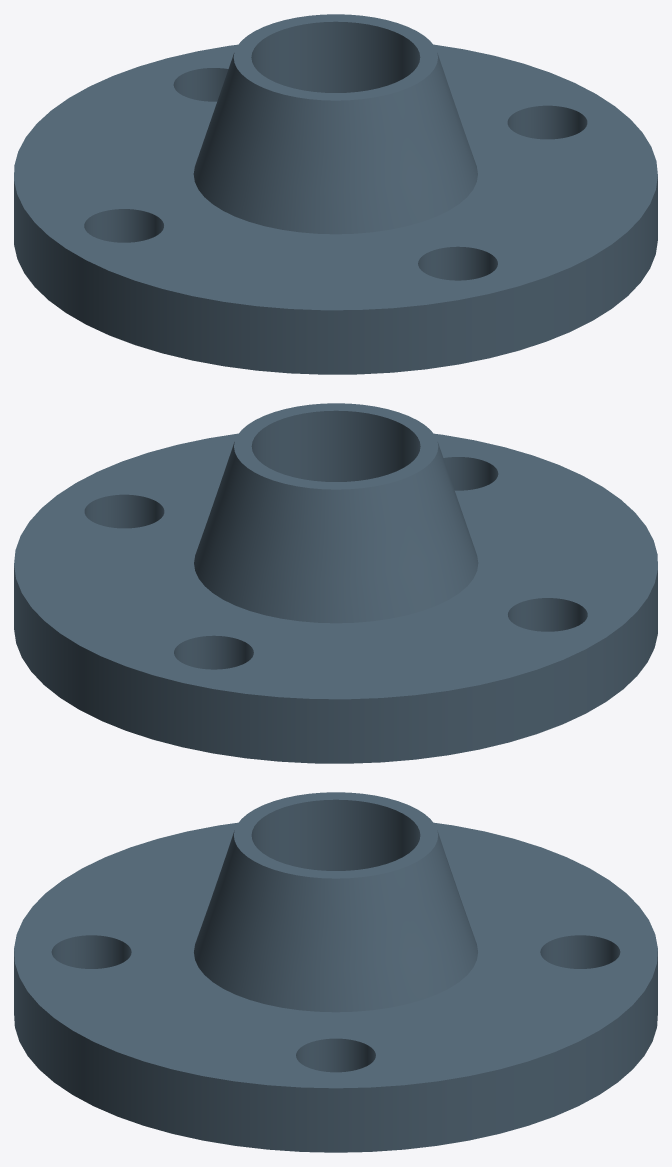
The model's file is flanec-vorotnikovyj-DN40-PN40.glb.
3 views of the same model, one above another, from view 1: azimuth 30°, elevation 25°; view 2: azimuth 150°, elevation 25°; view 3: azimuth 270°, elevation 25° (orthographic).
Visible parts, largest first — view 1: Open CASCADE STEP translator 7.9 80; view 2: Open CASCADE STEP translator 7.9 80; view 3: Open CASCADE STEP translator 7.9 80.
Part boxes in pixels (x1=…): Open CASCADE STEP translator 7.9 80: x1=14, y1=14, x2=657, y2=374; Open CASCADE STEP translator 7.9 80: x1=14, y1=403, x2=657, y2=763; Open CASCADE STEP translator 7.9 80: x1=14, y1=792, x2=657, y2=1152.
Size of the model in its own units: 145 by 48 by 145.
